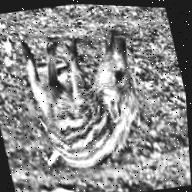boar: (14, 19, 160, 180)
